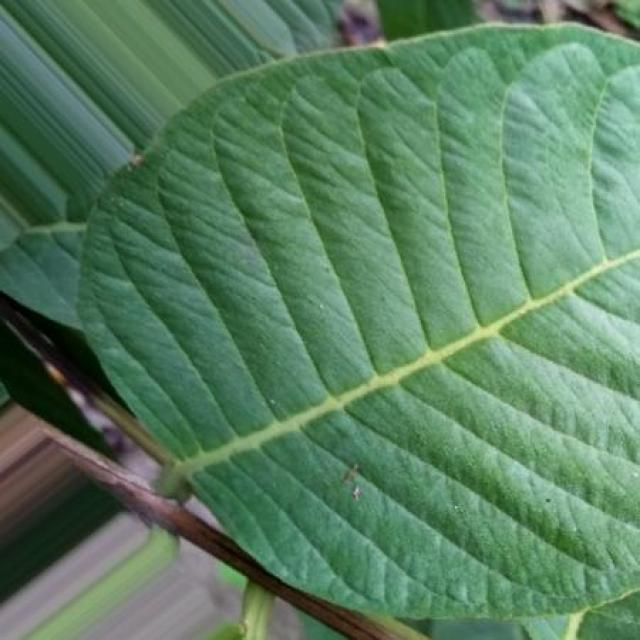Disease Free: (81, 28, 640, 617)
